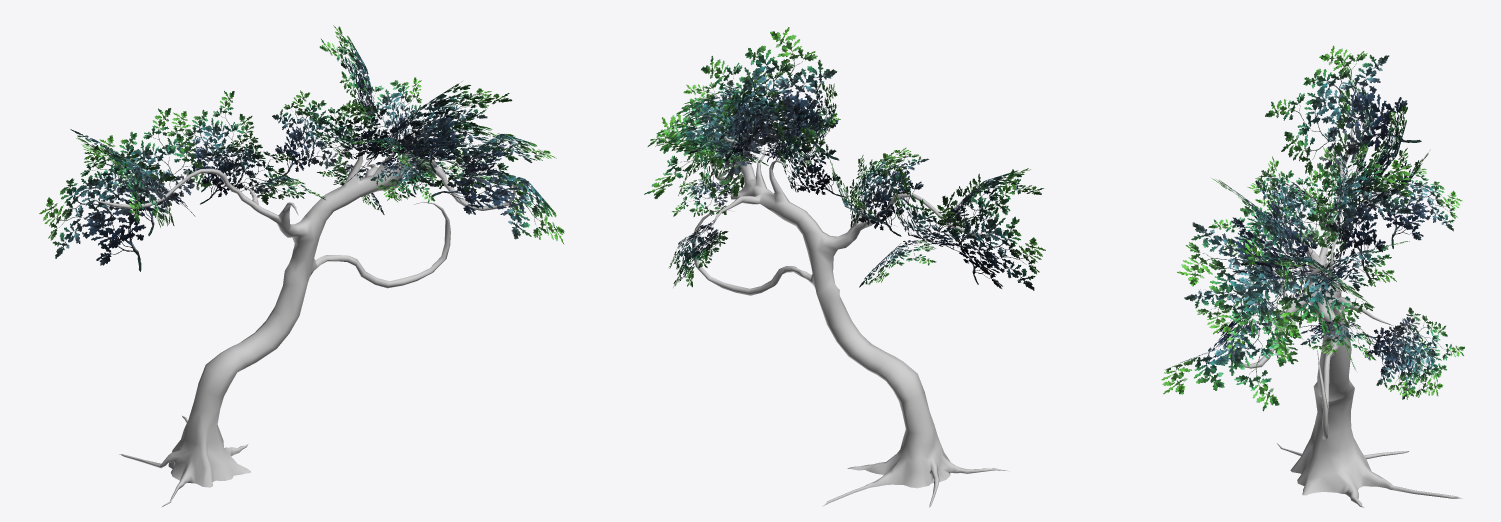
The model's file is Tree_Snaky_LOD0.fbx.
The picture shows the model from 3 angles, left to right: view 1: azimuth 30°, elevation 25°; view 2: azimuth 150°, elevation 25°; view 3: azimuth 270°, elevation 25°; orthographic projection. The views are drawn at different scales.
Parts seen in each view (by area): view 1: U3DMesh; view 2: U3DMesh; view 3: U3DMesh.
Boxes of the visible parts, <box> form: U3DMesh: <box>39,25,564,506</box>; U3DMesh: <box>644,27,1045,507</box>; U3DMesh: <box>1161,45,1464,507</box>.
Bounding box in the file's own units: 62.71 × 47.09 × 37.97.
